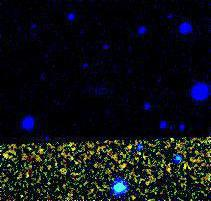star: (112, 131, 142, 161)
